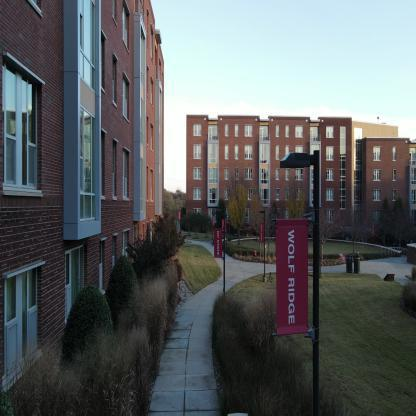Wolf Ridge: (0, 6, 169, 404), (174, 100, 415, 277)
